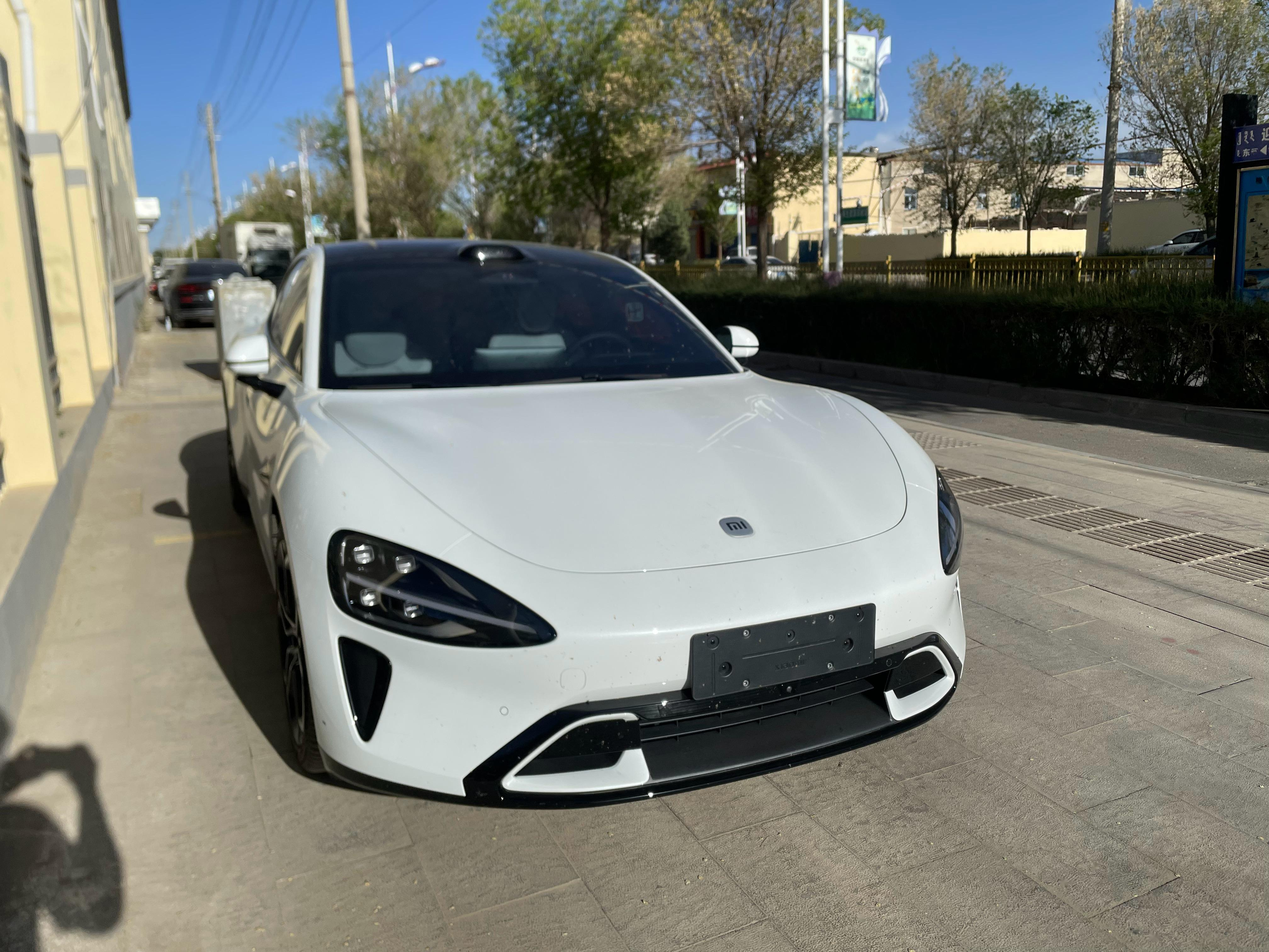su7: (233, 246, 979, 795)
